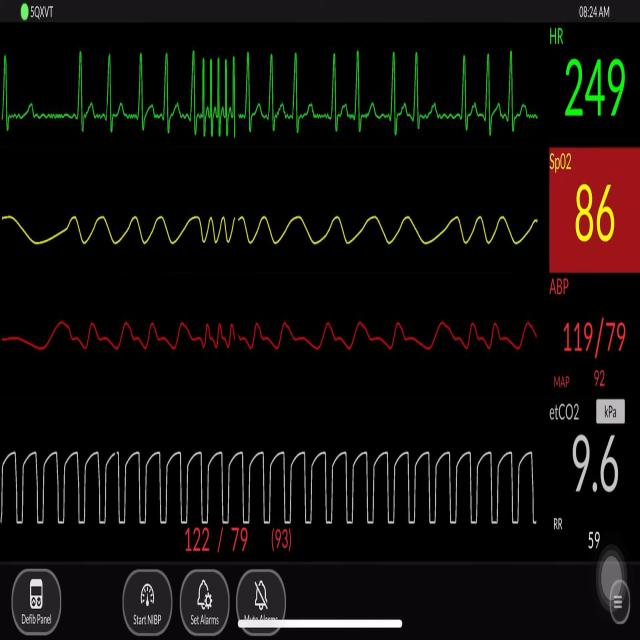danger: (199, 40, 240, 146)
